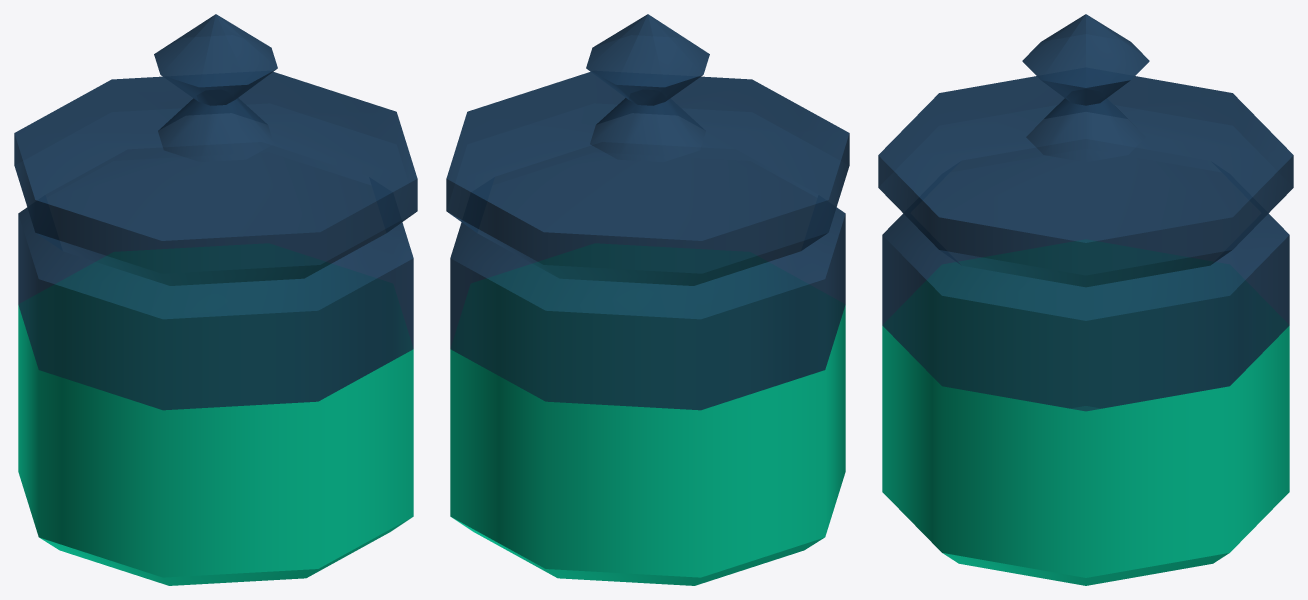
File: jar4.fbx
The picture shows the model from 3 angles, left to right: view 1: azimuth 30°, elevation 25°; view 2: azimuth 150°, elevation 25°; view 3: azimuth 270°, elevation 25°; orthographic projection.
Parts seen in each view (by area): view 1: Line1076; view 2: Line1076; view 3: Line1076.
Part boxes in pixels (x1=…): Line1076: x1=14, y1=14, x2=417, y2=585; Line1076: x1=446, y1=14, x2=849, y2=585; Line1076: x1=878, y1=14, x2=1293, y2=585.
Bounding box in the file's own units: 51.42 × 67.73 × 51.42.
